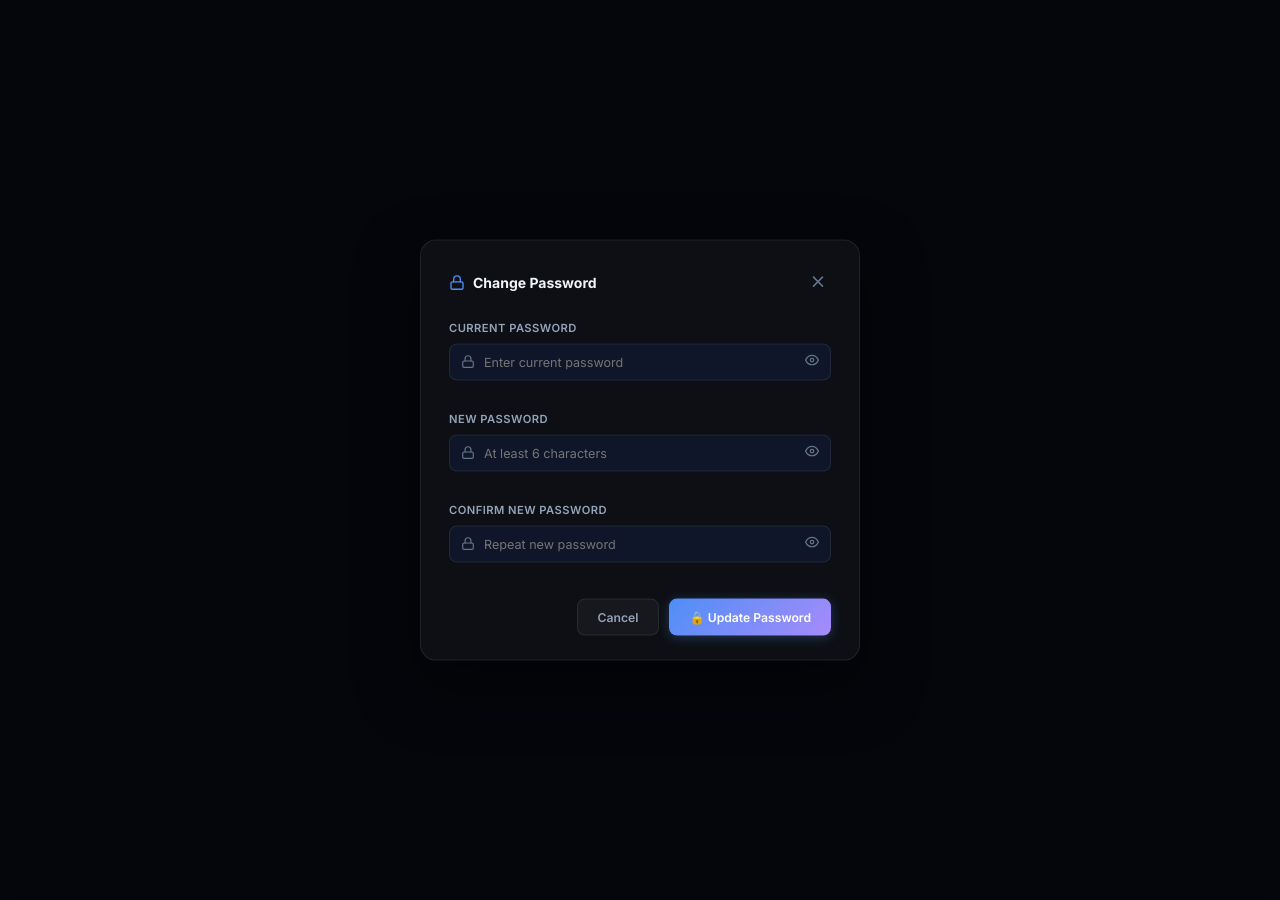
ChangePasswordModal › shows error when new passwords do not match
# Fill form with unmatched passwords
Type "oldpass123" into the password field with placeholder "Enter current password" at (640, 362), box x1=449 y1=344 x2=831 y2=380
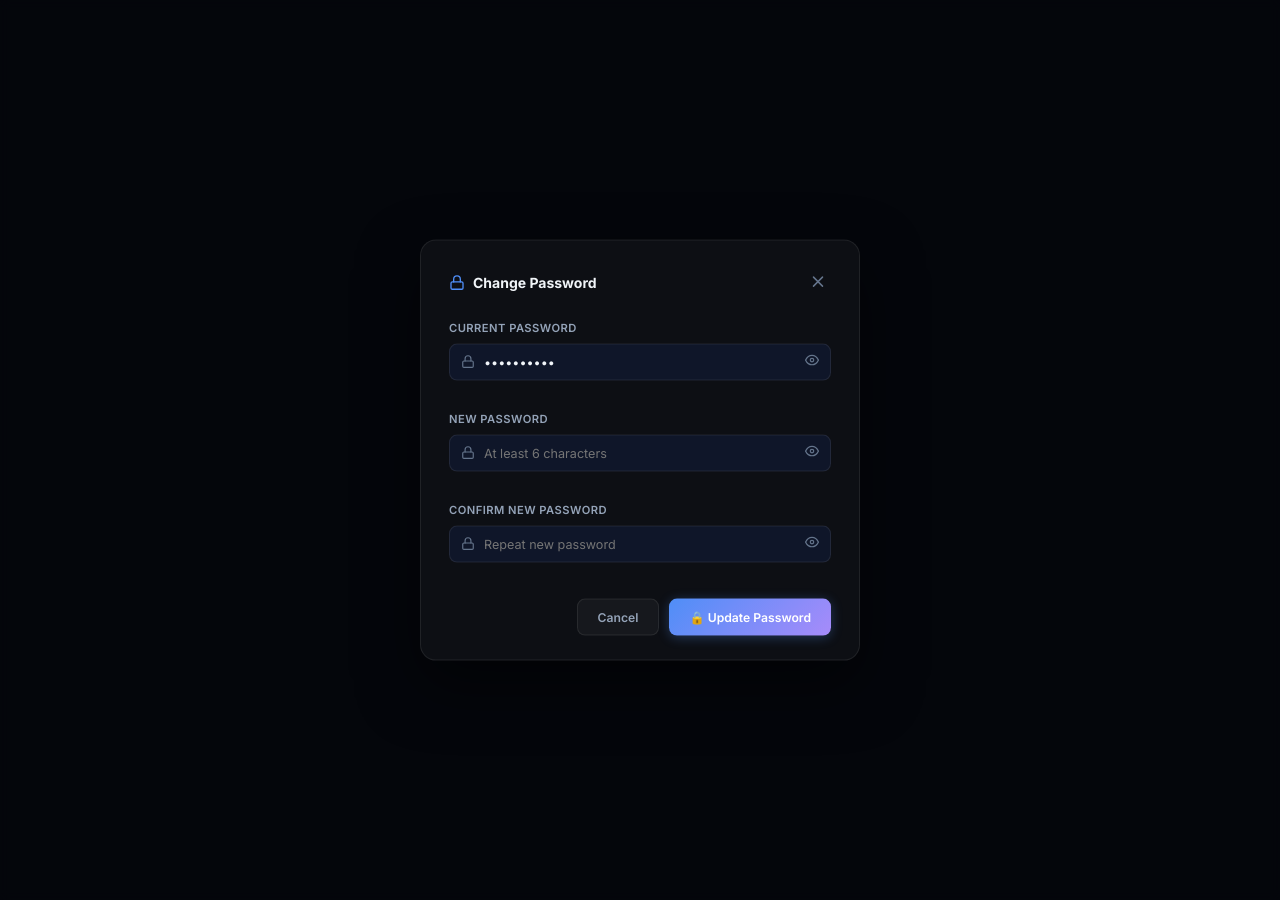
Type "newpass123" into the password field with placeholder "At least 6 characters" at (640, 453), box x1=449 y1=434 x2=831 y2=472
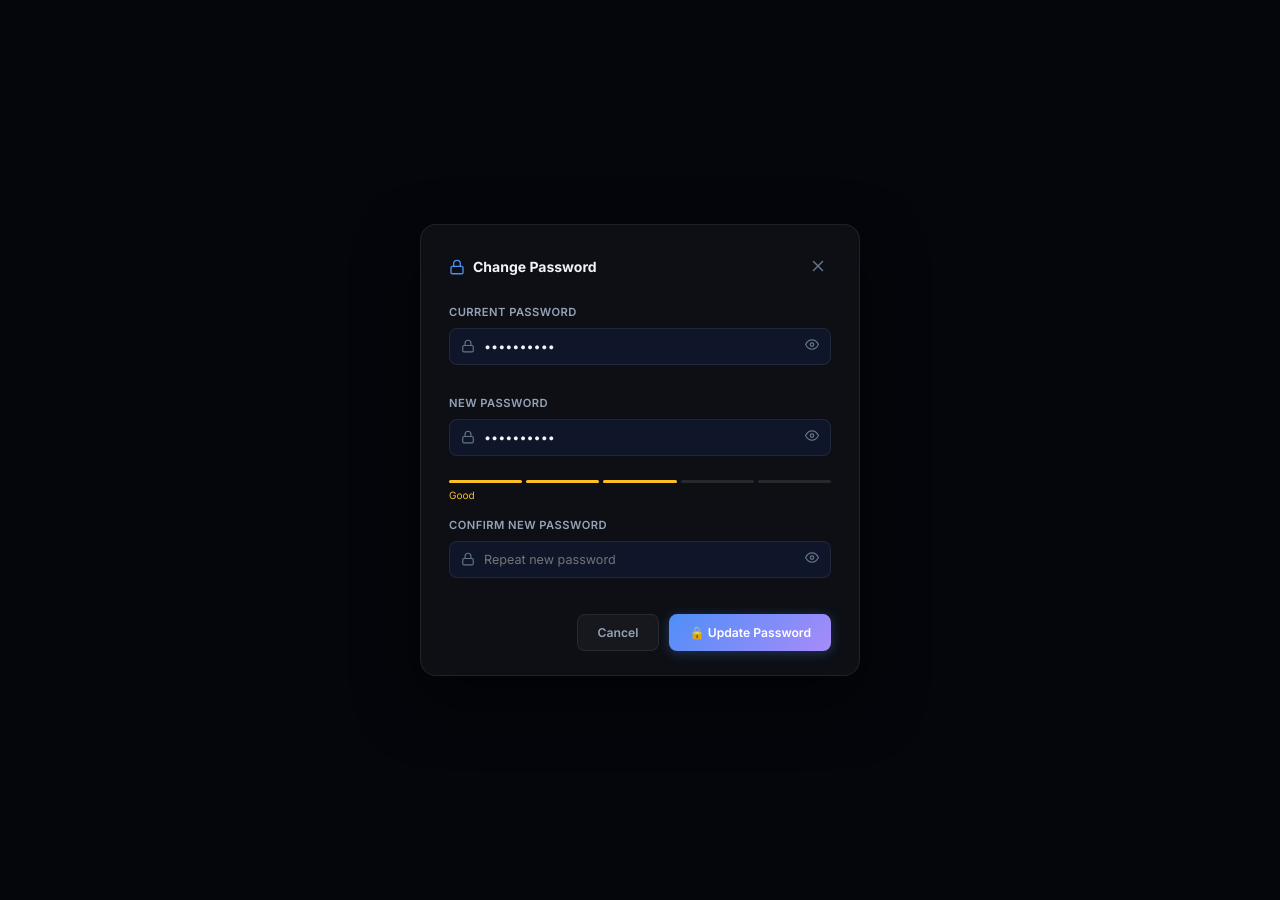
Type "different123" into the password field with placeholder "Repeat new password" at (640, 559), box x1=449 y1=541 x2=831 y2=578
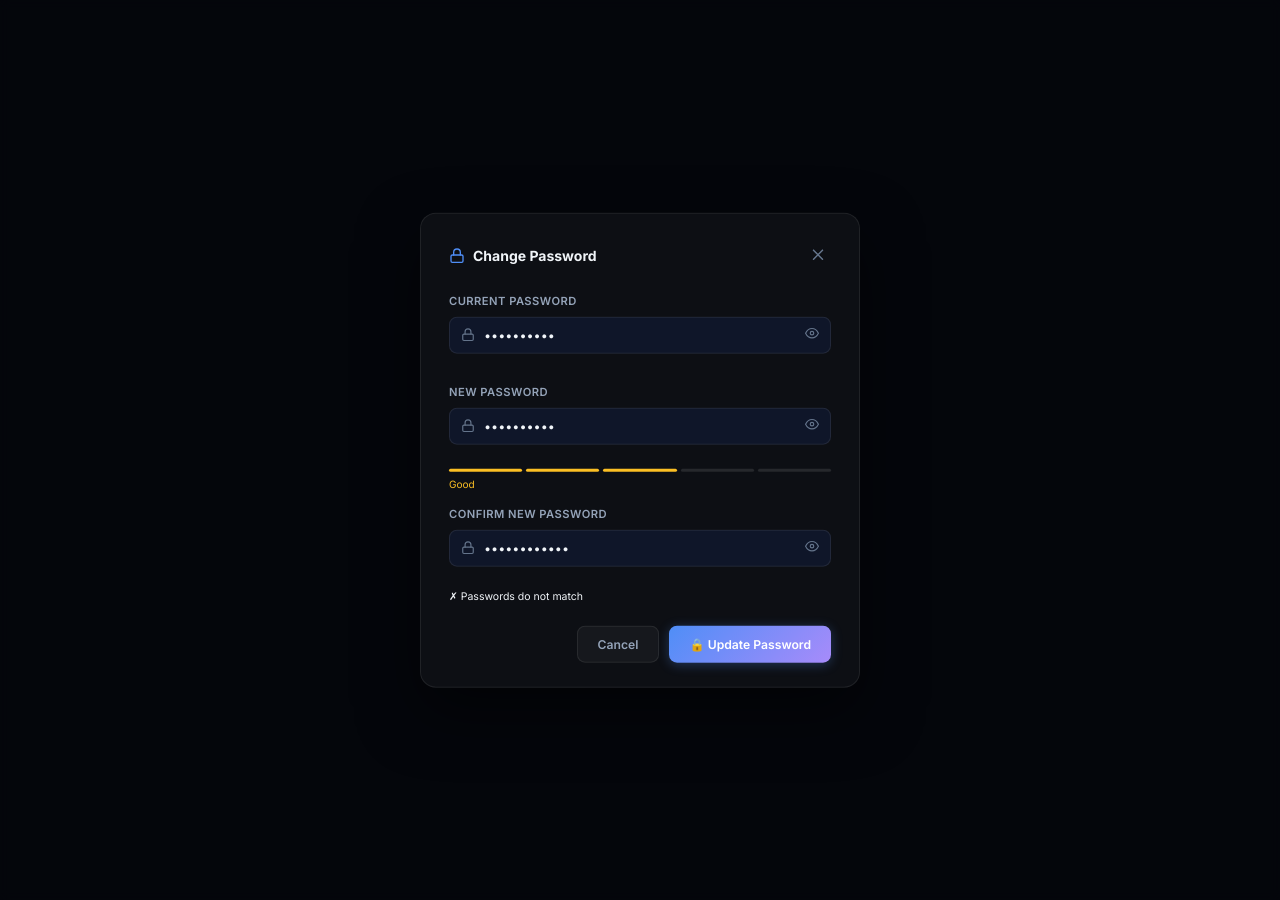
Click the button "🔒 Update Password" at (750, 644), box x1=669 y1=625 x2=831 y2=662
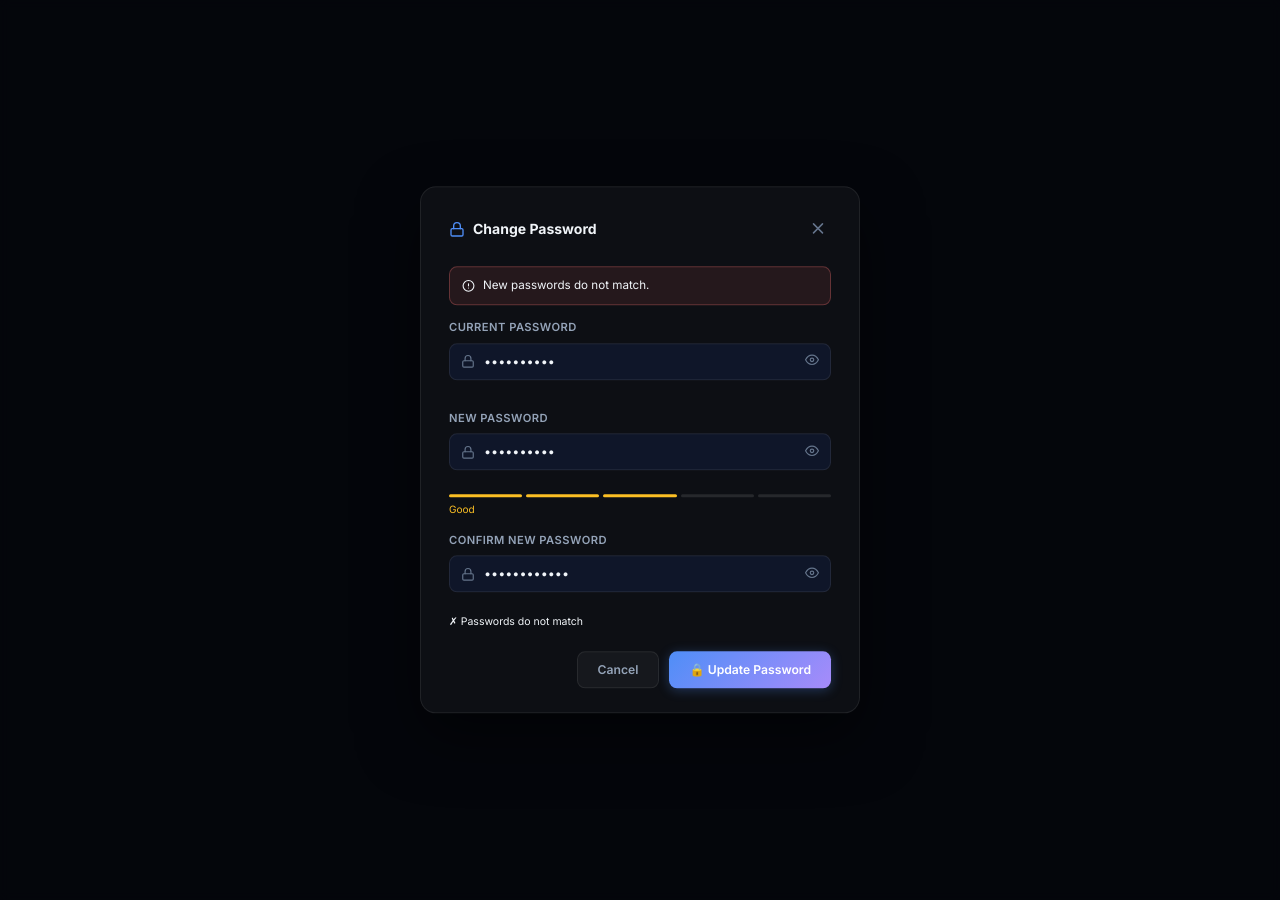
Expected: the text "New passwords do not match." is shown, x1=449 y1=266 x2=831 y2=305
